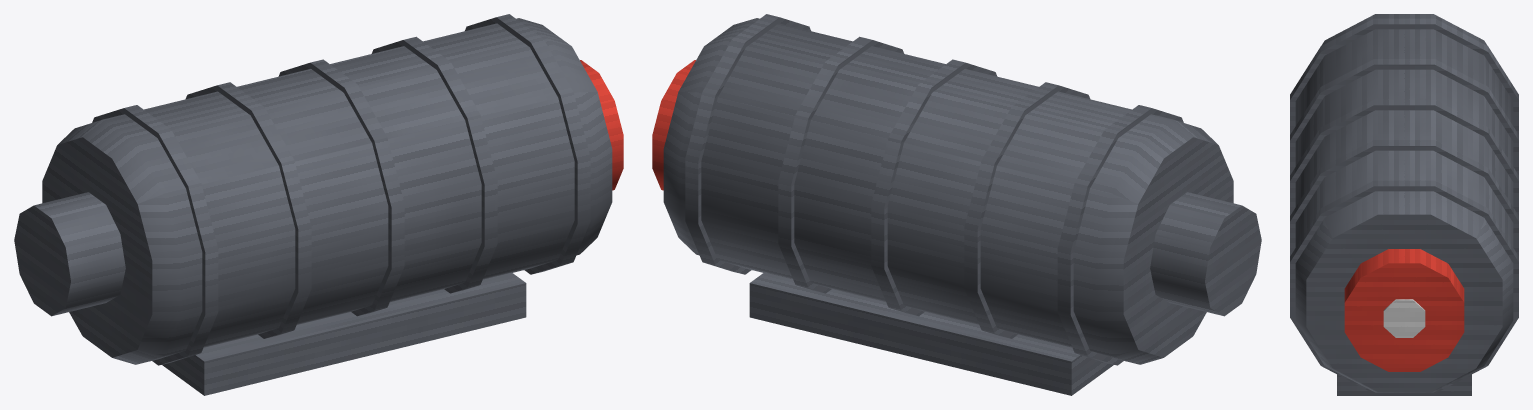
Rendered from compressor_n4.glb.
3 views of the same model, side by side, from view 1: azimuth 30°, elevation 25°; view 2: azimuth 150°, elevation 25°; view 3: azimuth 270°, elevation 25° (orthographic). The views are drawn at different scales.
Parts seen in each view (by area): view 1: compressor_n4; view 2: compressor_n4; view 3: compressor_n4.
Part boxes in pixels (x1,y1,x2,y2): compressor_n4: (14, 14, 623, 395); compressor_n4: (652, 14, 1261, 395); compressor_n4: (1290, 14, 1518, 395).
Bounding box in the file's own units: 0.503 × 0.2214 × 0.2028.
Materials: 2 (2 with a texture image).
